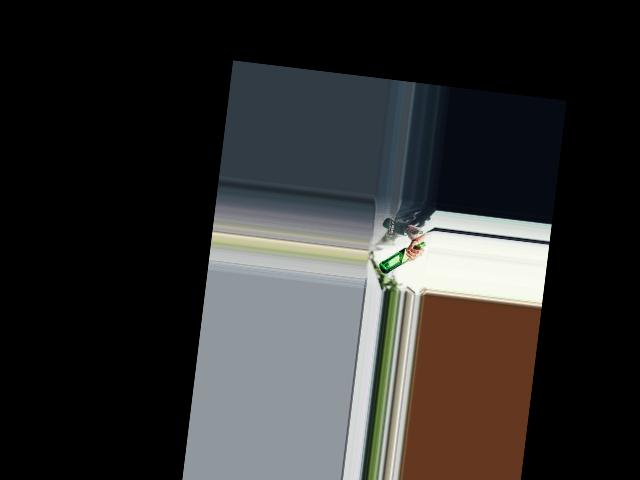beer: (378, 236, 425, 277)
